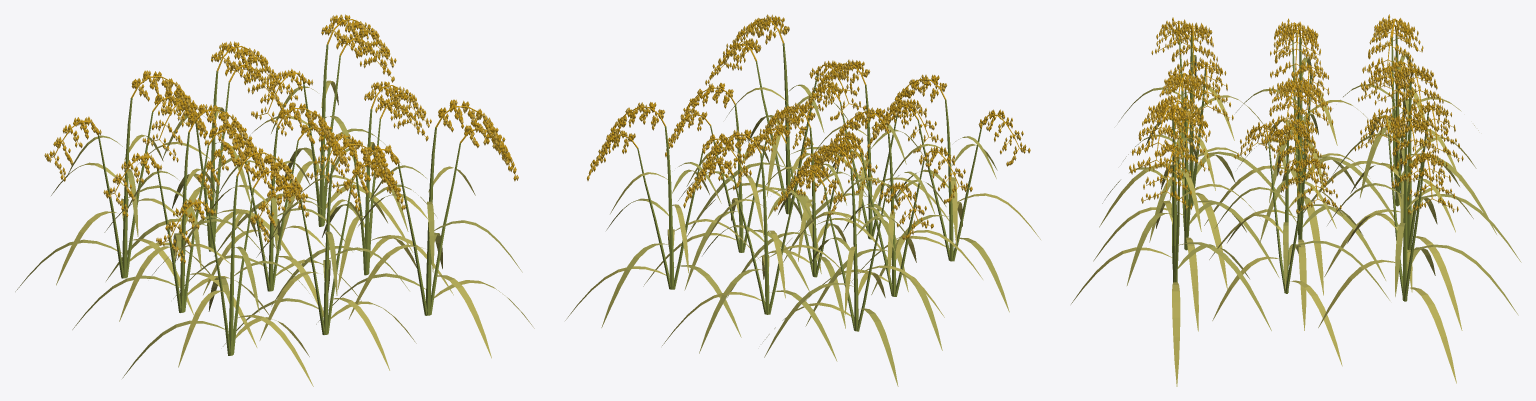
Rendered from CayLuaNhe_Cum3x3.fbx.
The picture shows the model from 3 angles, left to right: view 1: azimuth 30°, elevation 25°; view 2: azimuth 150°, elevation 25°; view 3: azimuth 270°, elevation 25°; orthographic projection. The views are drawn at different scales.
Visible parts, largest first — view 1: CayLuaNhe_Cum3x3; view 2: CayLuaNhe_Cum3x3; view 3: CayLuaNhe_Cum3x3.
Part boxes in pixels (left/top/right/bottom): CayLuaNhe_Cum3x3: left=15, top=14, right=534, bottom=386; CayLuaNhe_Cum3x3: left=565, top=14, right=1040, bottom=386; CayLuaNhe_Cum3x3: left=1071, top=14, right=1521, bottom=386.
Bounding box in the file's own units: 398 × 250 × 416.
